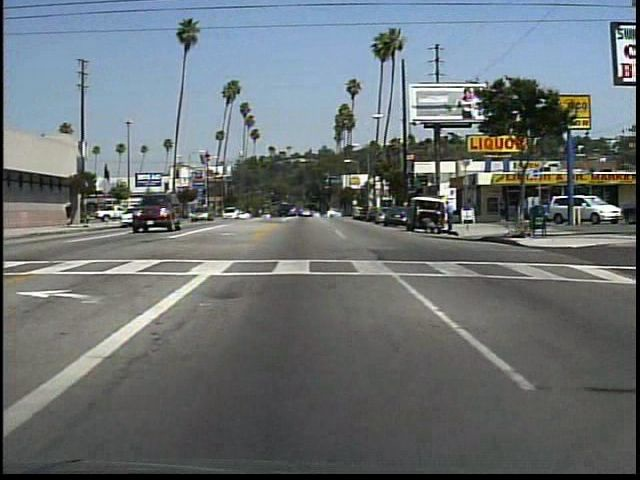person: (442, 197, 459, 235), (492, 191, 508, 223), (418, 215, 436, 234), (67, 199, 75, 227)
